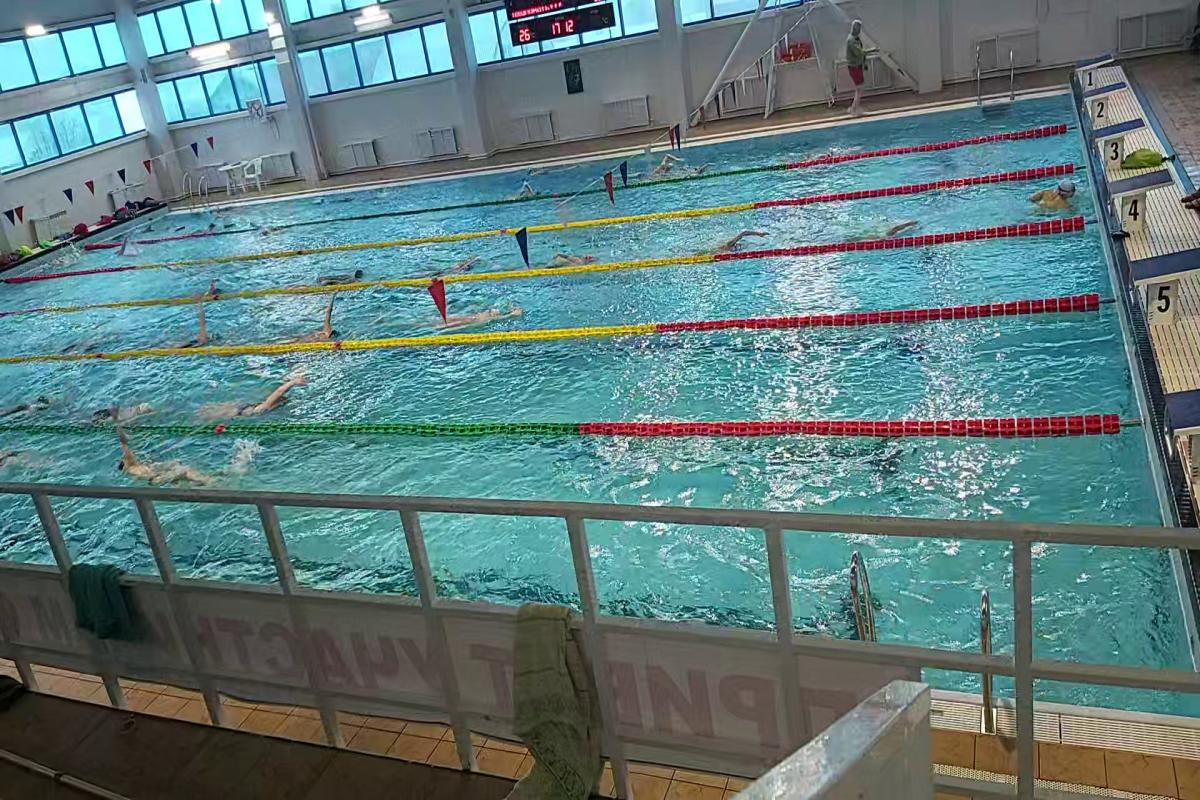swimmer: (103, 444, 228, 486), (210, 367, 316, 411), (453, 293, 531, 330), (1018, 178, 1084, 214), (176, 301, 228, 344), (701, 225, 771, 255), (309, 295, 343, 341), (97, 399, 160, 422), (548, 243, 608, 267), (874, 213, 925, 238), (434, 253, 485, 274), (323, 267, 372, 283), (203, 278, 233, 294)
